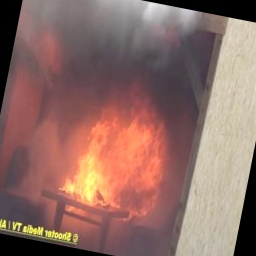fire: (41, 88, 178, 224)
